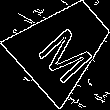M_NE: (29, 12, 97, 80)
